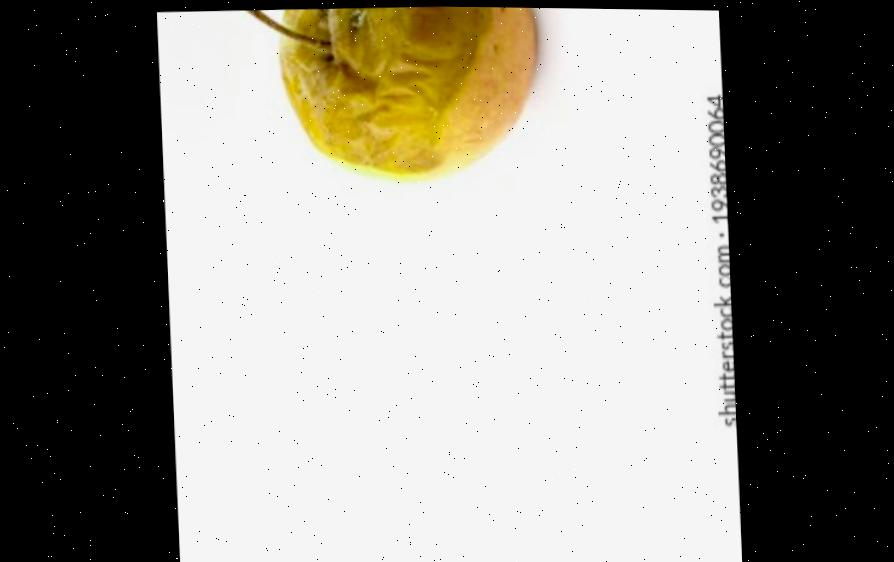ROT: (247, 4, 585, 175)
